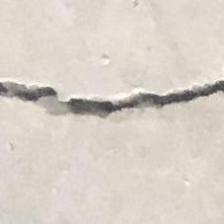Crack: (0, 65, 224, 123)
